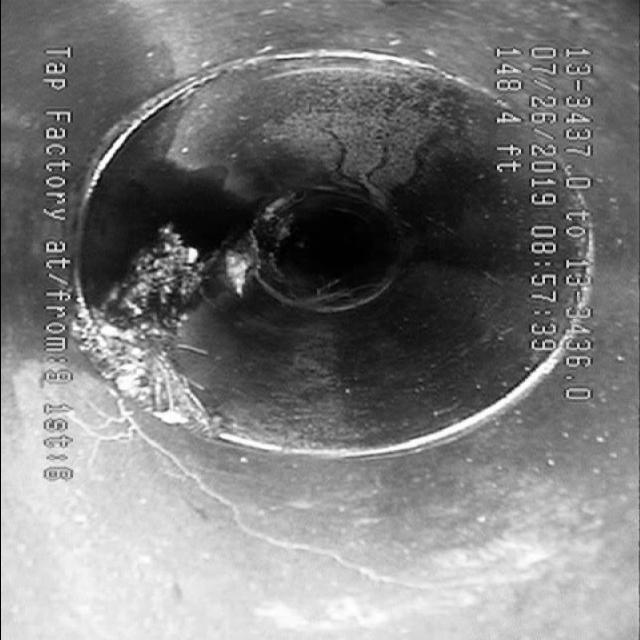Crack: (152, 478, 458, 592)
